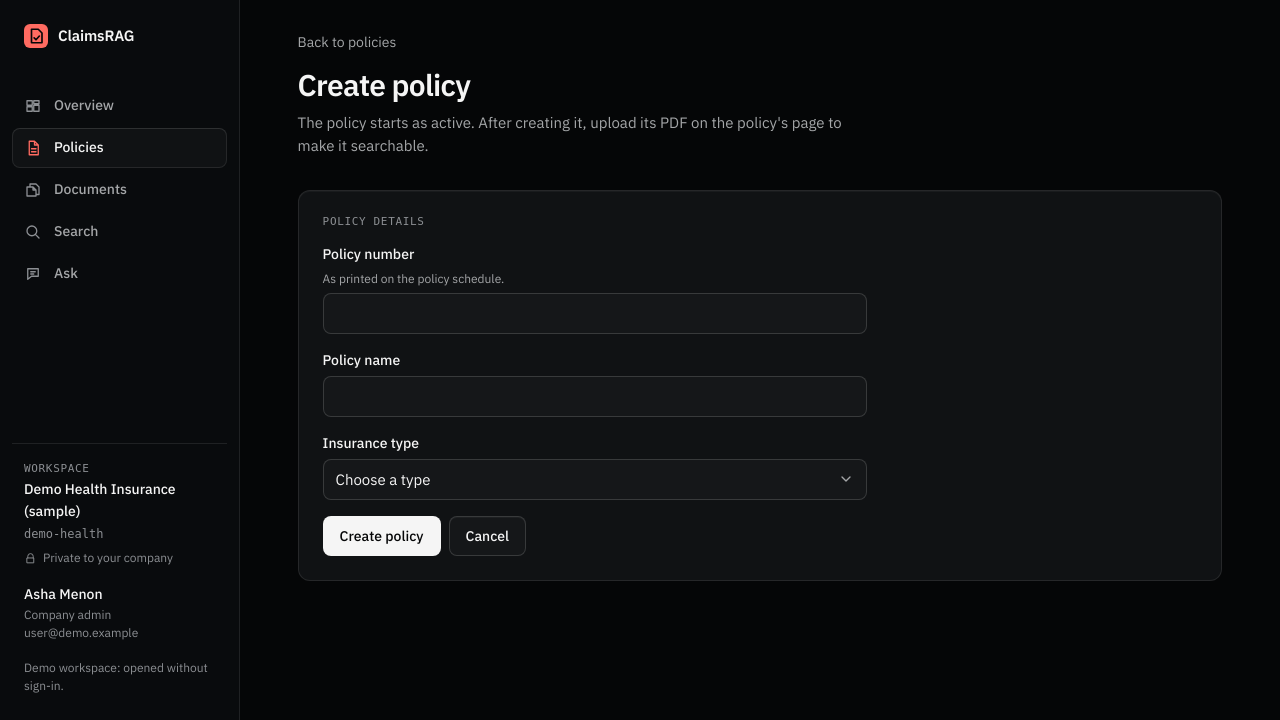
creating a policy › creates the policy with trimmed values only, then opens it
Type "  DH-100 " into the field labelled "Policy number".
click(595, 313); type("  DH-100 ")  # box [323,293,867,334]
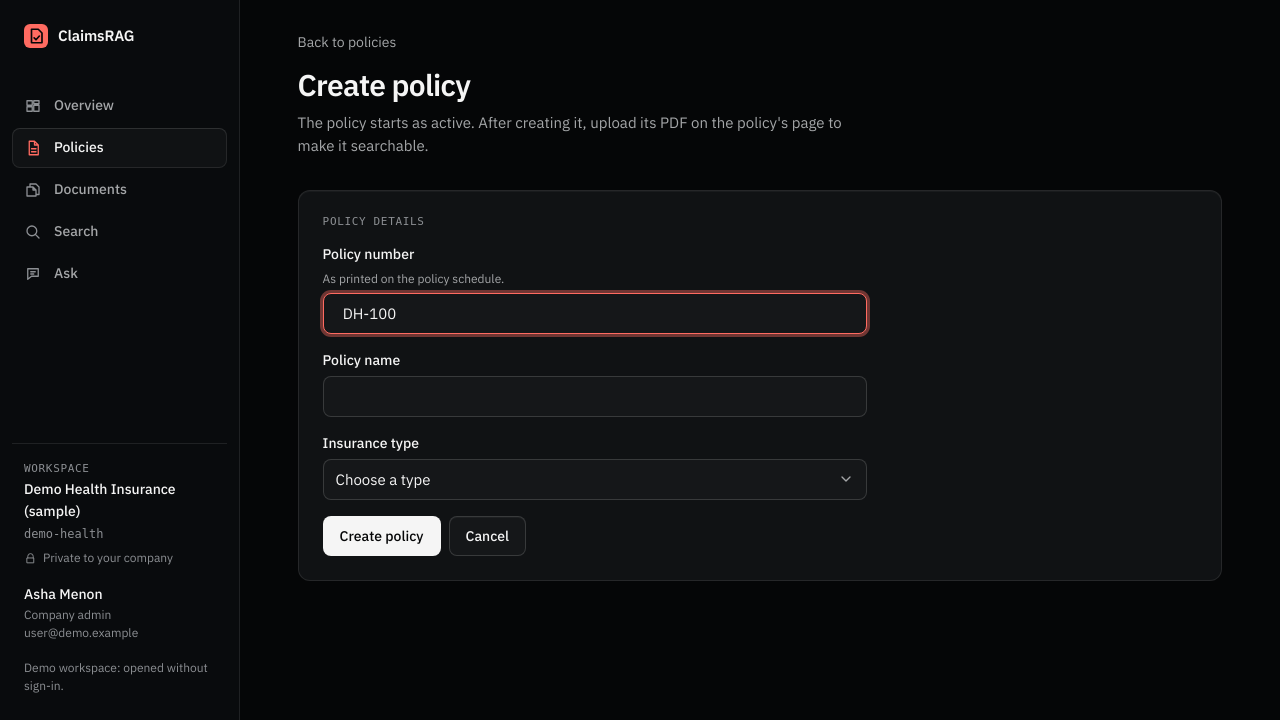
Type "Family Health Plus" into the field labelled "Policy name".
click(595, 396); type("Family Health Plus")  # box [323,376,867,417]
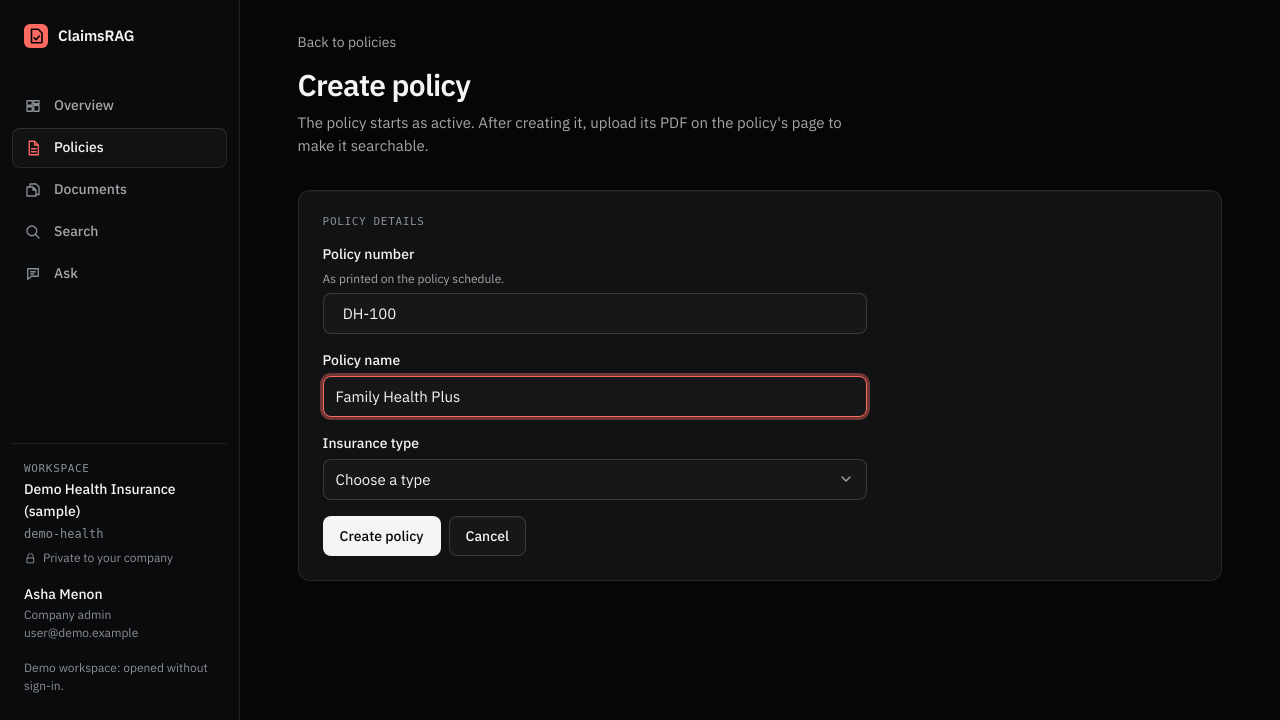
Select "Health" in the dropdown labelled "Insurance type" at x=595, y=479, box [323,459,867,500]
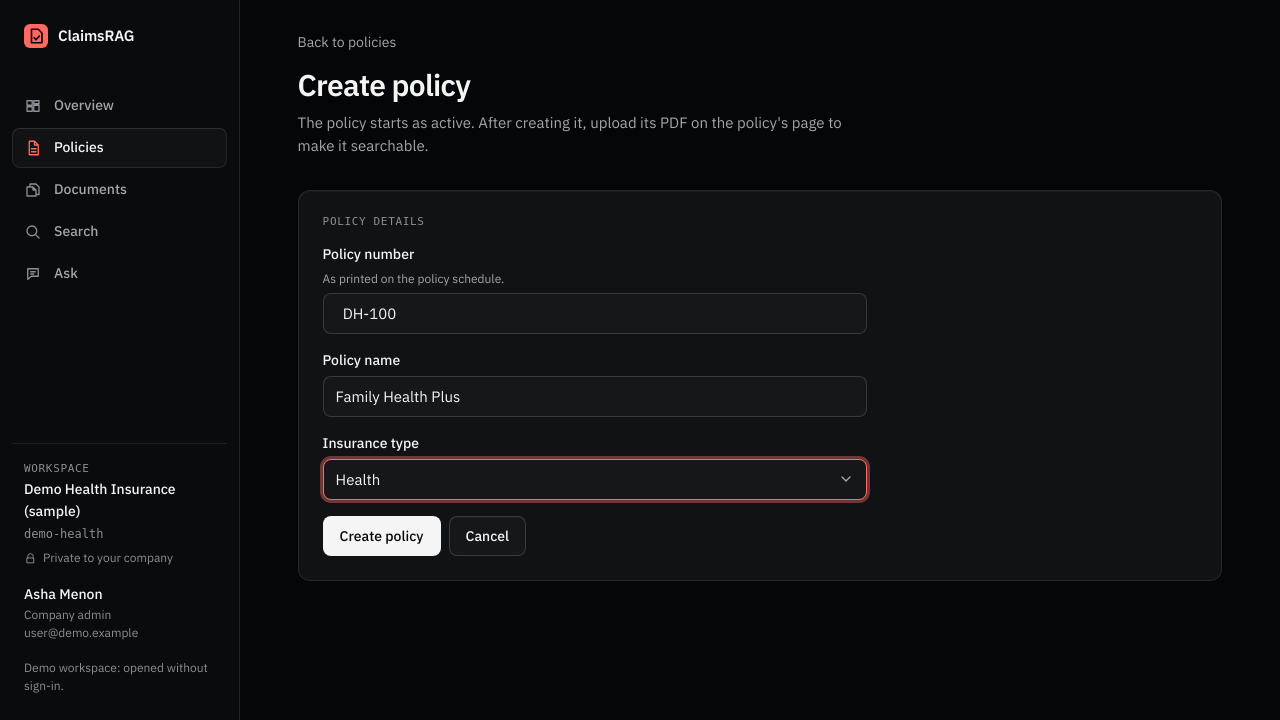
Click the button "Create policy".
click(382, 536)  # box [323,516,440,556]
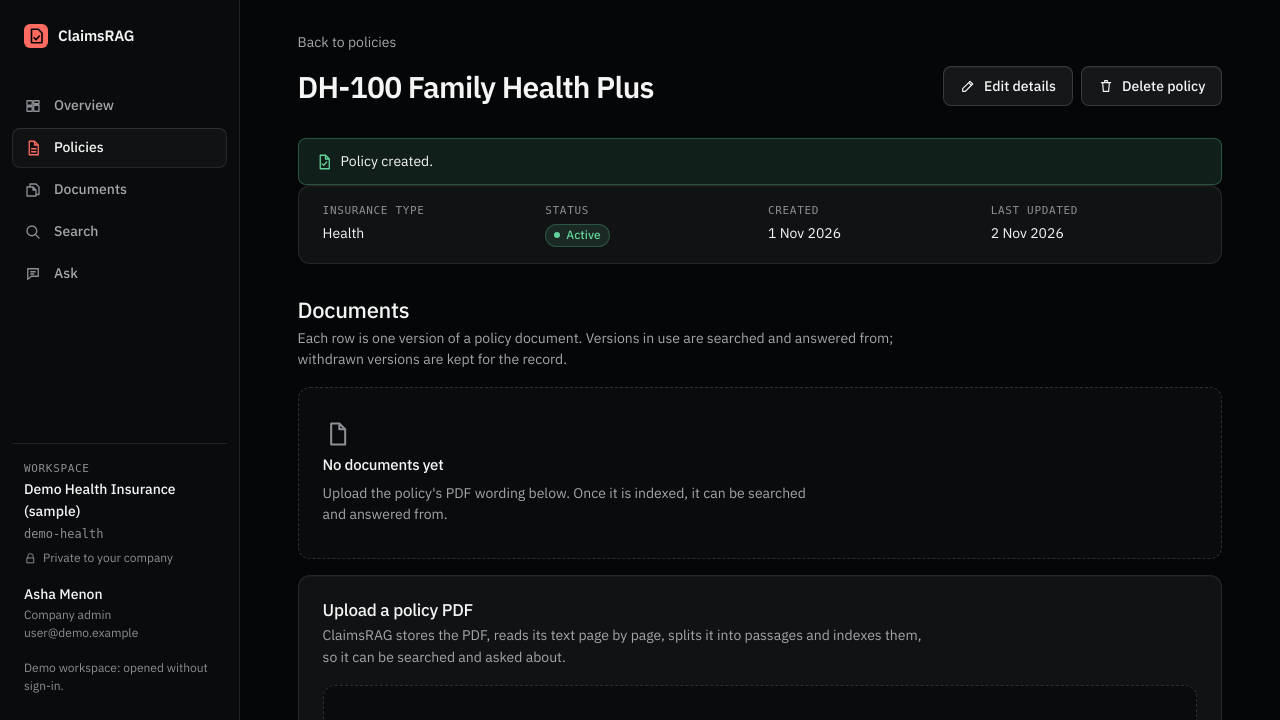
Result: the text "Policy created." is shown at [341,151,433,172]
Result: the heading "No documents yet" is shown at [323,456,443,475]
